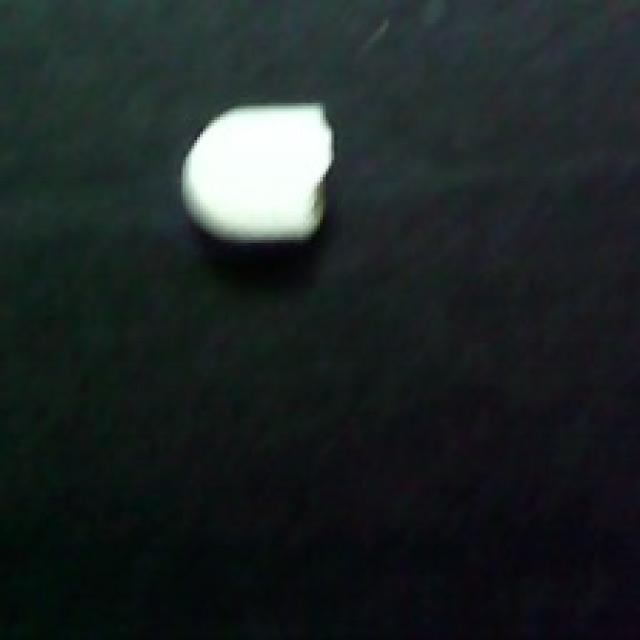defected: (177, 89, 340, 266)
